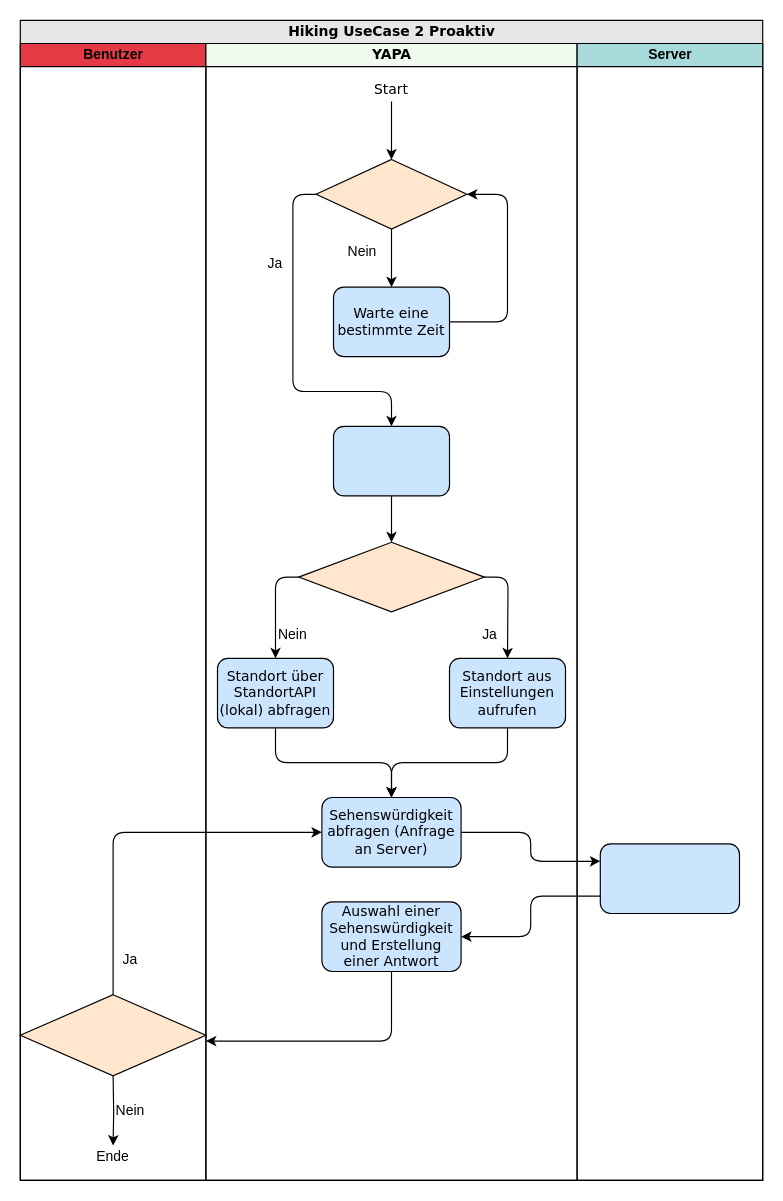
This 783x1201 diagram has some shape labels left out. Each missing label, with the centre of its shape:
"Anderer Vorschlag erwünscht?" goes at [112,1035].
"Nach 17 Uhr?" goes at [391,193].
"Sehenswüdrigkeit finden" goes at [669,878].
"Standort in Einstellungen?" goes at [391,576].
"Standort wird abgefragt" goes at [390,460].
